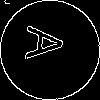A: (25, 25, 74, 63)
